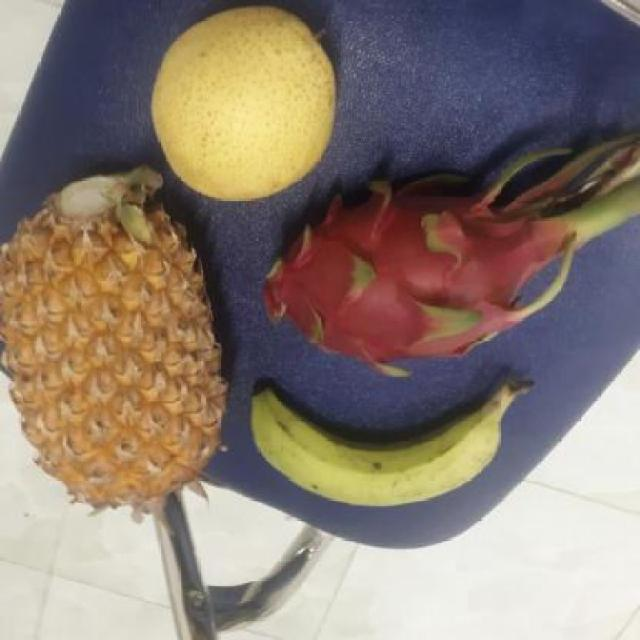banana: (235, 370, 516, 501)
dragon fruit: (245, 171, 561, 374)
pear: (143, 4, 340, 198)
pineapple: (0, 173, 223, 496)
